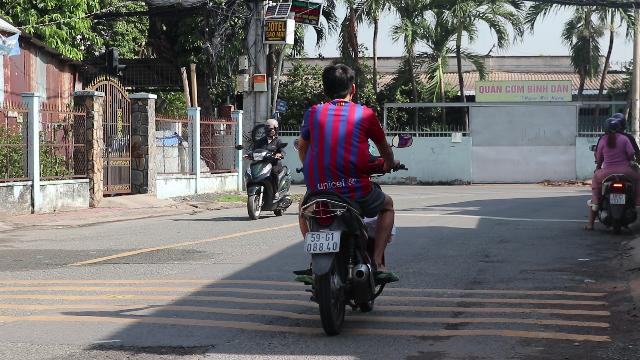helmet: (603, 117, 621, 137), (263, 118, 279, 138)
licenseplate: (304, 231, 340, 254), (610, 194, 626, 204)
motorcyclist: (288, 62, 404, 330), (584, 112, 640, 234), (241, 117, 293, 219)
nohelmet: (319, 63, 357, 103)
